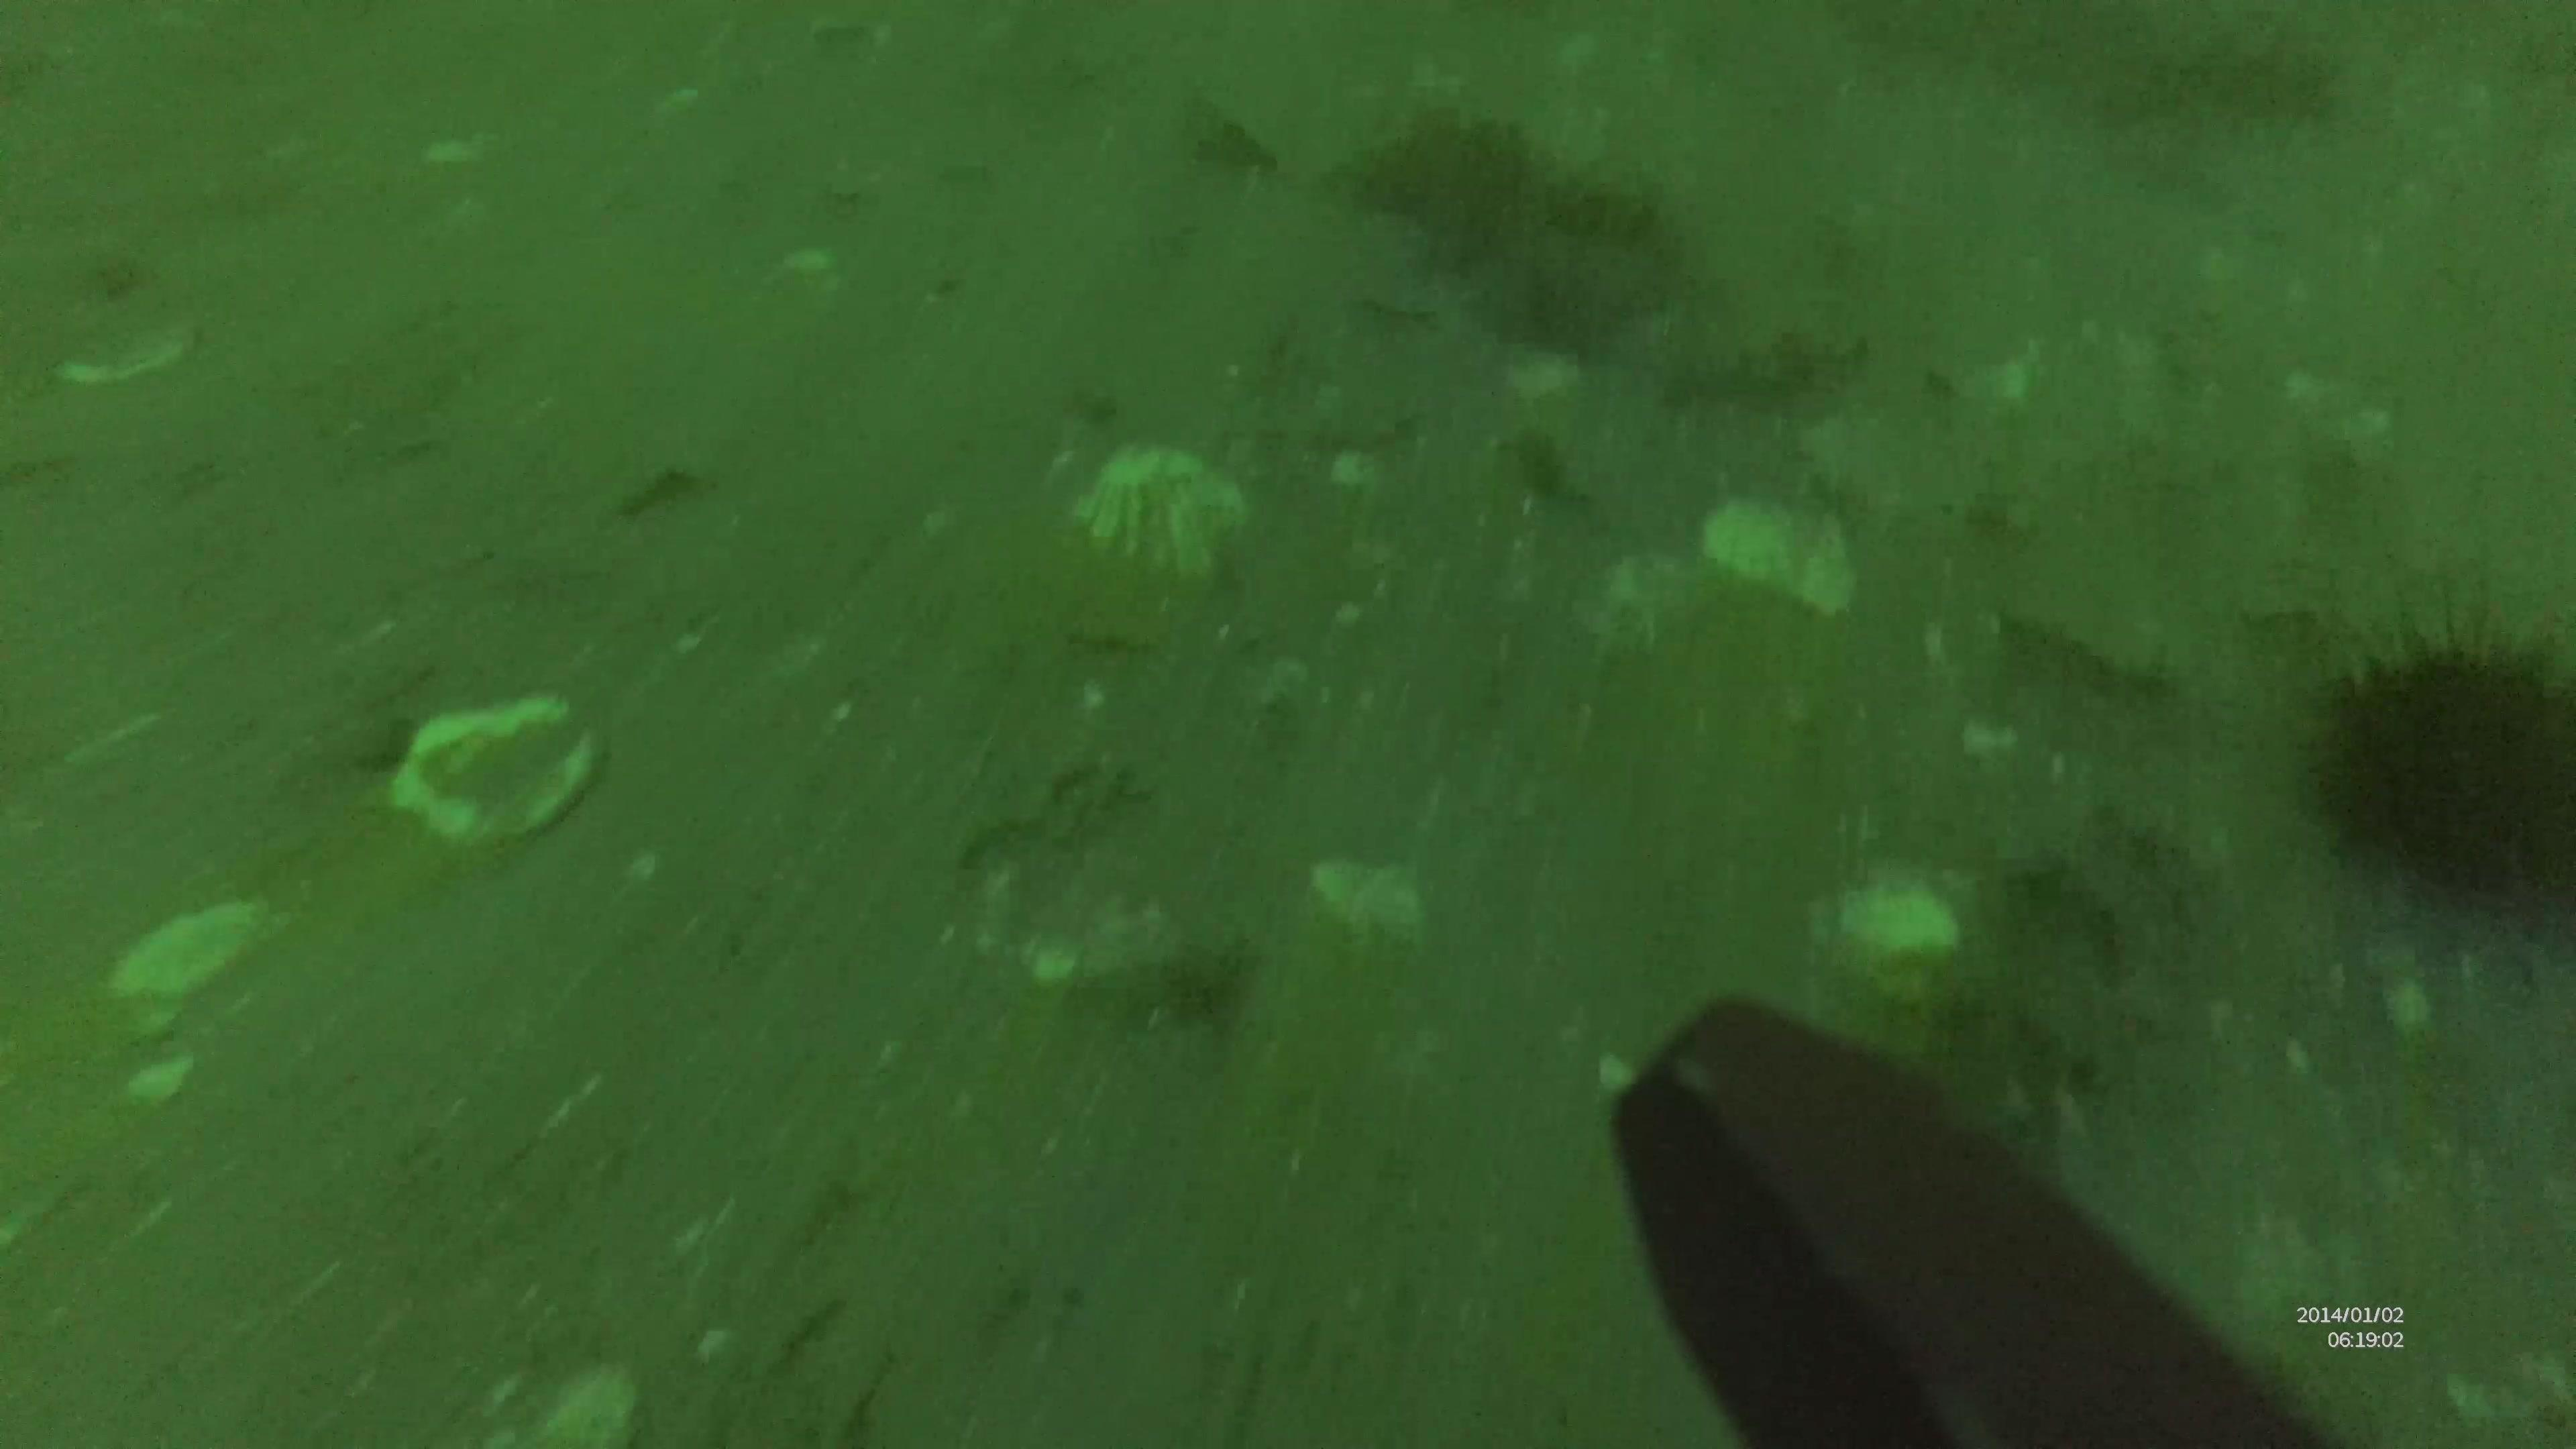echinus: (2316, 596, 2576, 915)
scallop: (1049, 439, 1256, 589), (393, 701, 598, 846)
